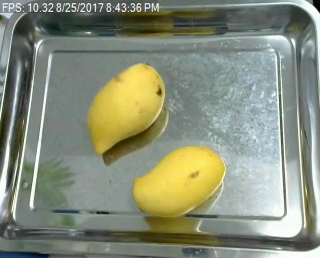Mango: (80, 59, 167, 156), (133, 147, 229, 217)
